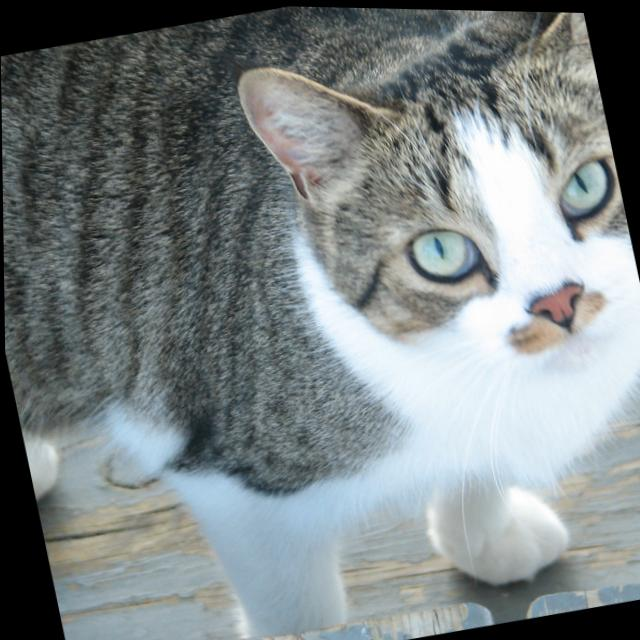animals: (233, 4, 640, 372)
